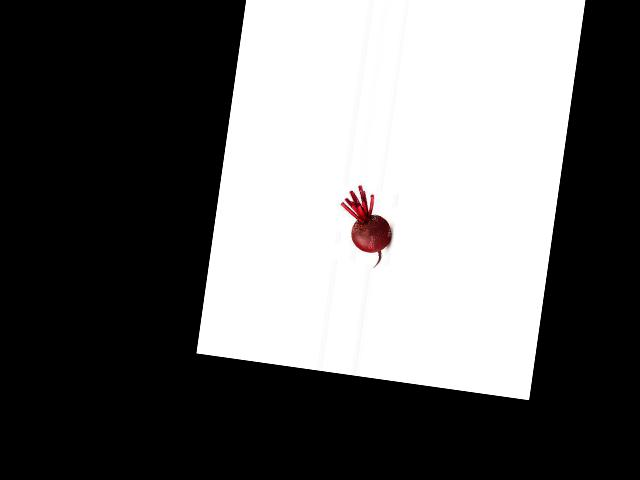beet: (333, 182, 397, 269)
